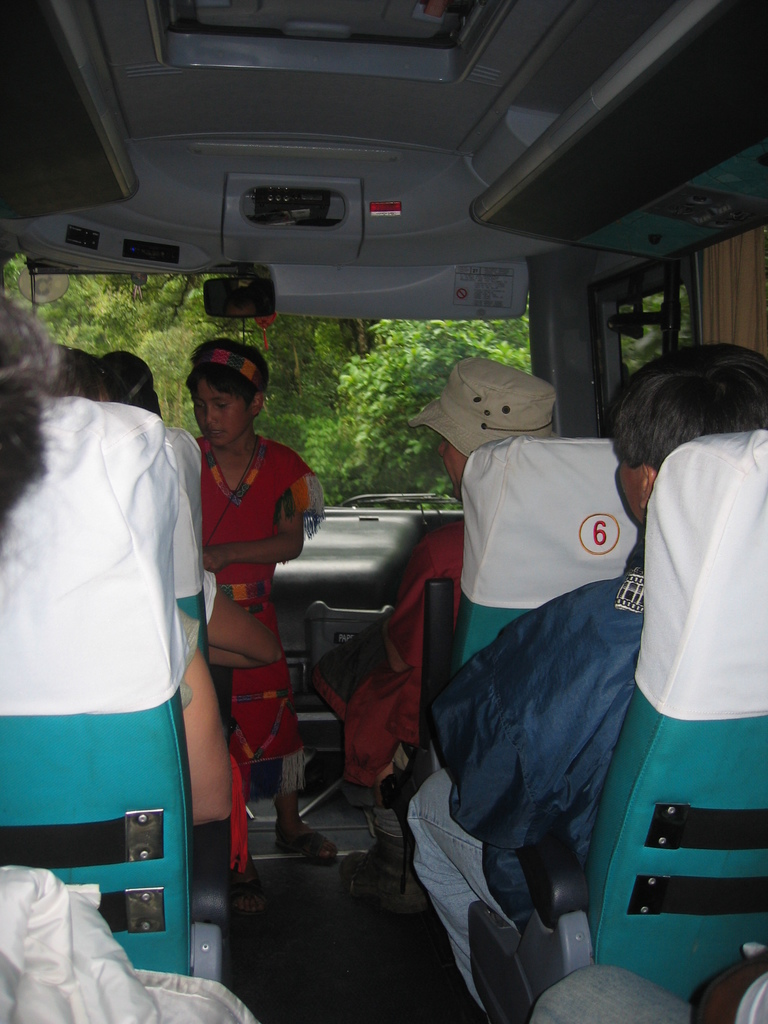Person: (313, 355, 556, 916), (0, 291, 235, 826), (186, 338, 337, 862), (522, 942, 768, 1024)
